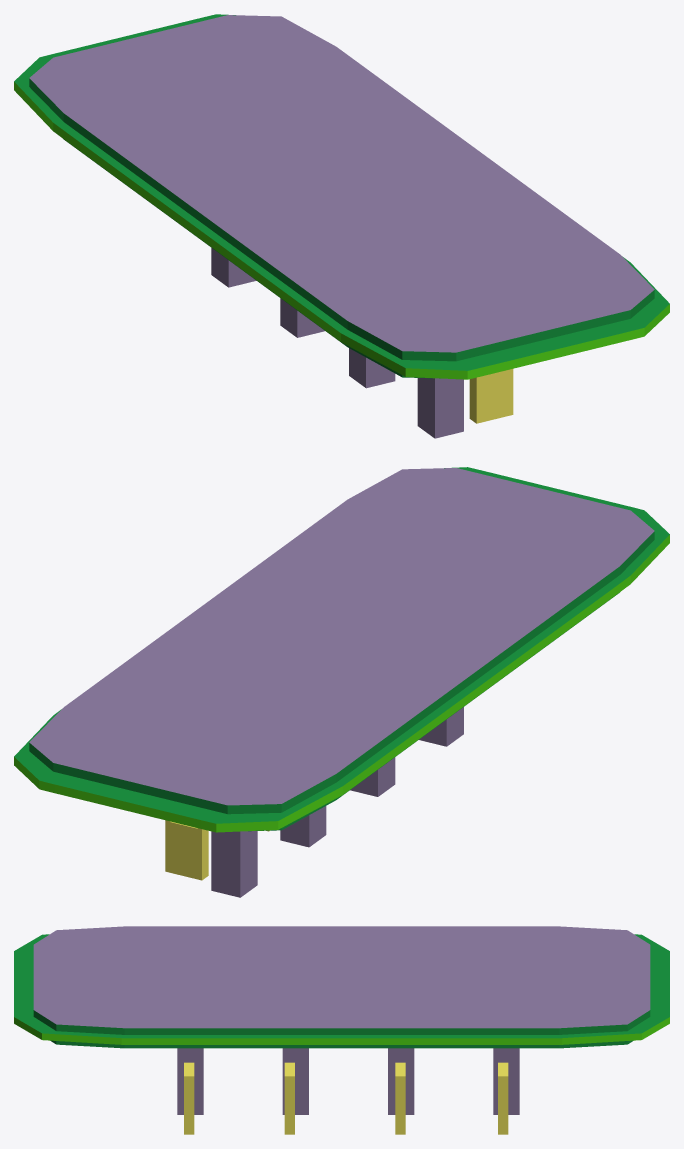
Rendered from Garage.fbx.
The picture shows the model from 3 angles, top to bottom: view 1: azimuth 30°, elevation 25°; view 2: azimuth 150°, elevation 25°; view 3: azimuth 270°, elevation 25°; orthographic projection. The views are drawn at different scales.
Parts seen in each view (by area): view 1: Garage; view 2: Garage; view 3: Garage.
Boxes of the visible parts, bbox=[...] form: Garage: bbox=[14, 14, 669, 438]; Garage: bbox=[14, 467, 669, 897]; Garage: bbox=[14, 926, 669, 1134].
Size of the model in its own units: 2016 by 1147 by 5161.
